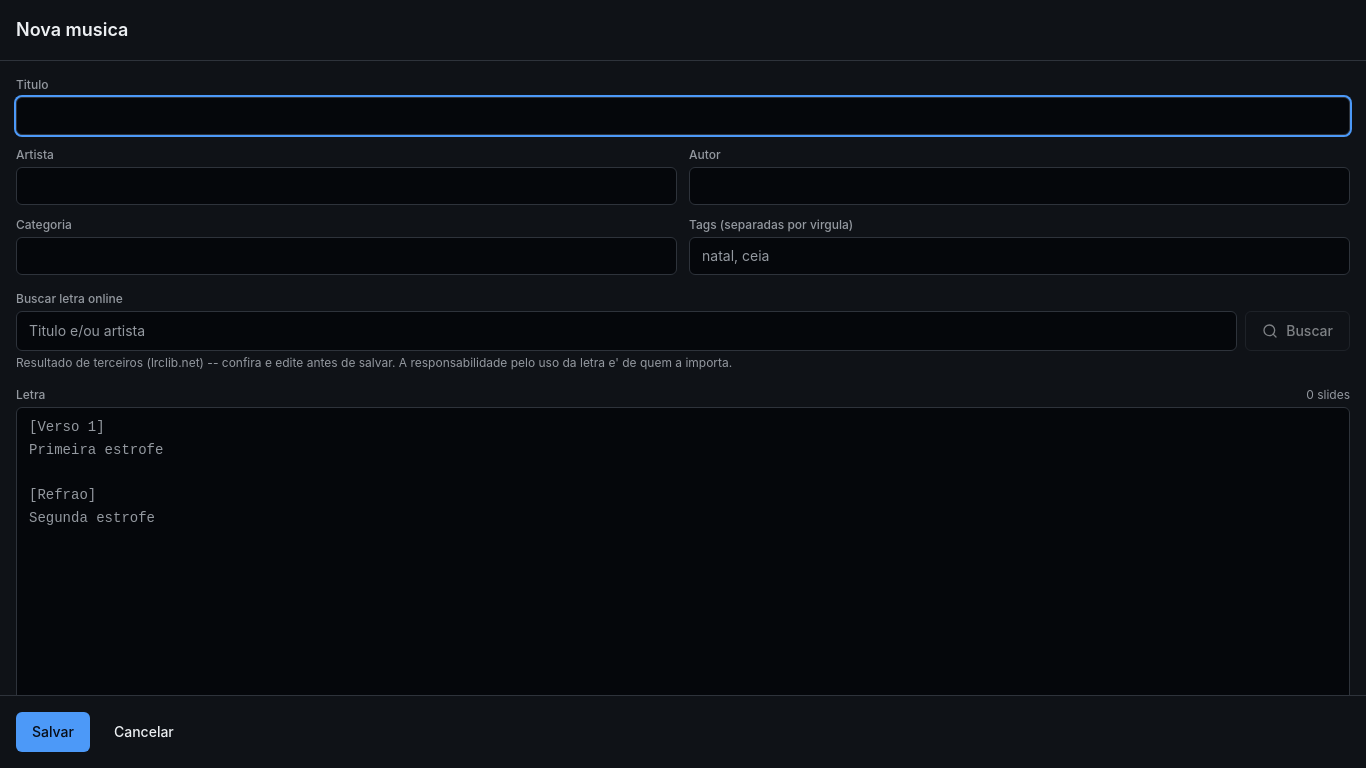
busca de letra online › mostra erro claro quando a busca falha
This screenshot has width=1366, height=768.
Type "busca" into the field labelled "Buscar letra online" at (627, 331), box [16,311,1237,351]
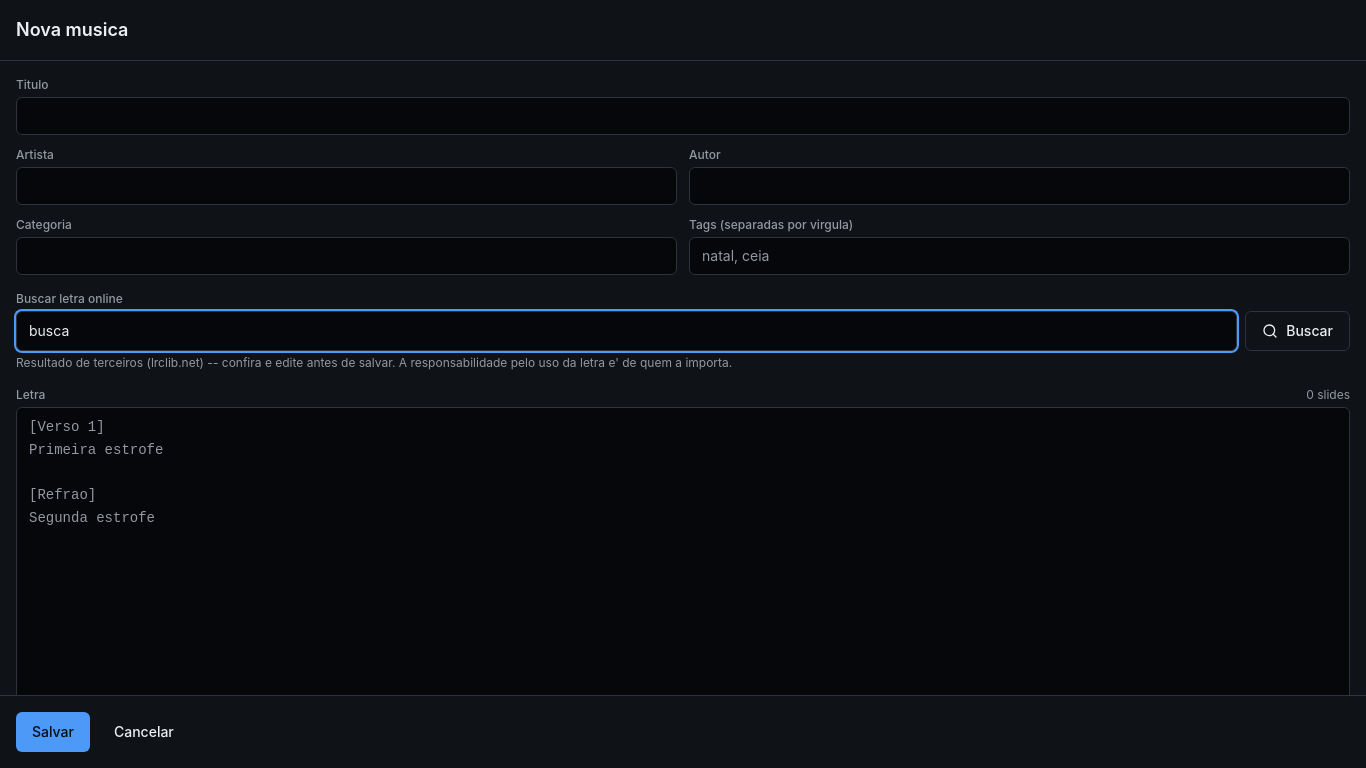
Click the button "Buscar" at (1298, 331), box [1245,311,1350,351]
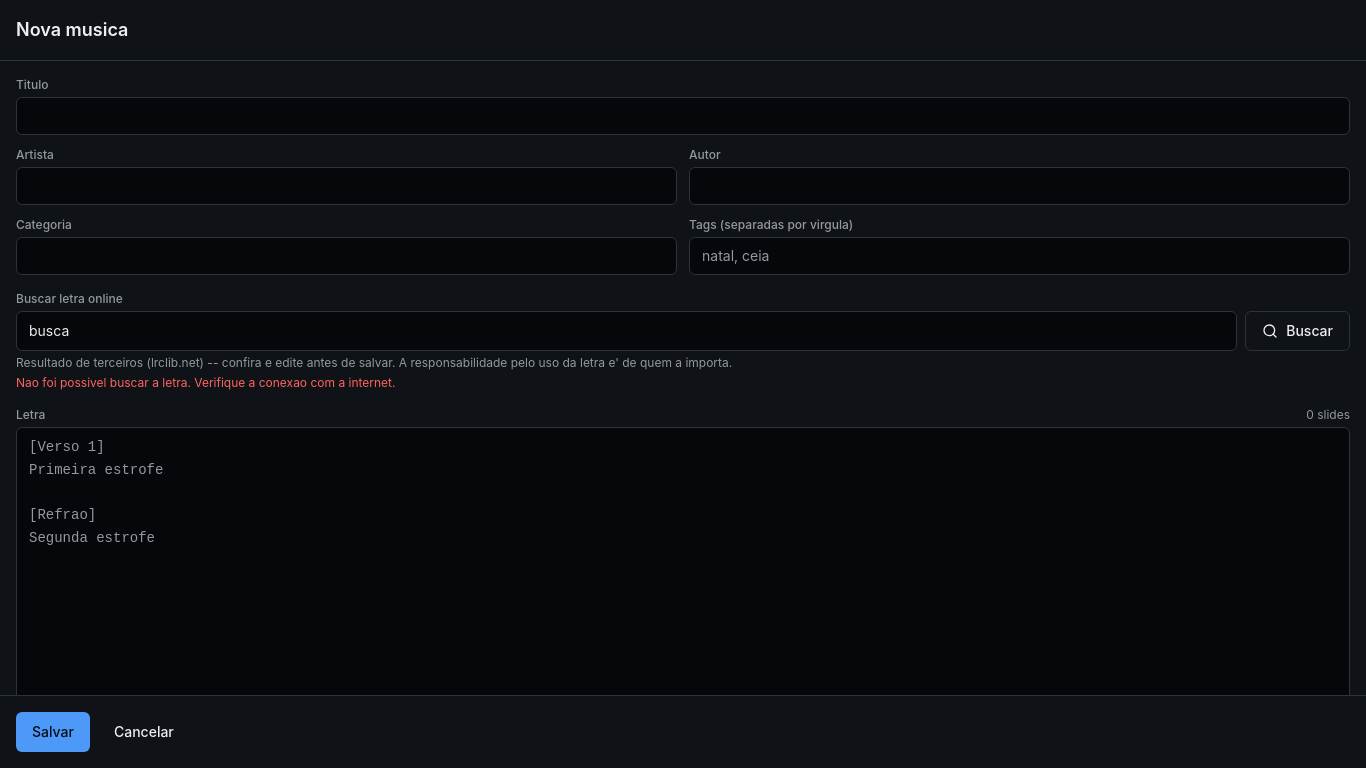
Result: the message reads "Nao foi possivel buscar a letra. Verifique a conexao com a internet." at [16,375,396,390]
